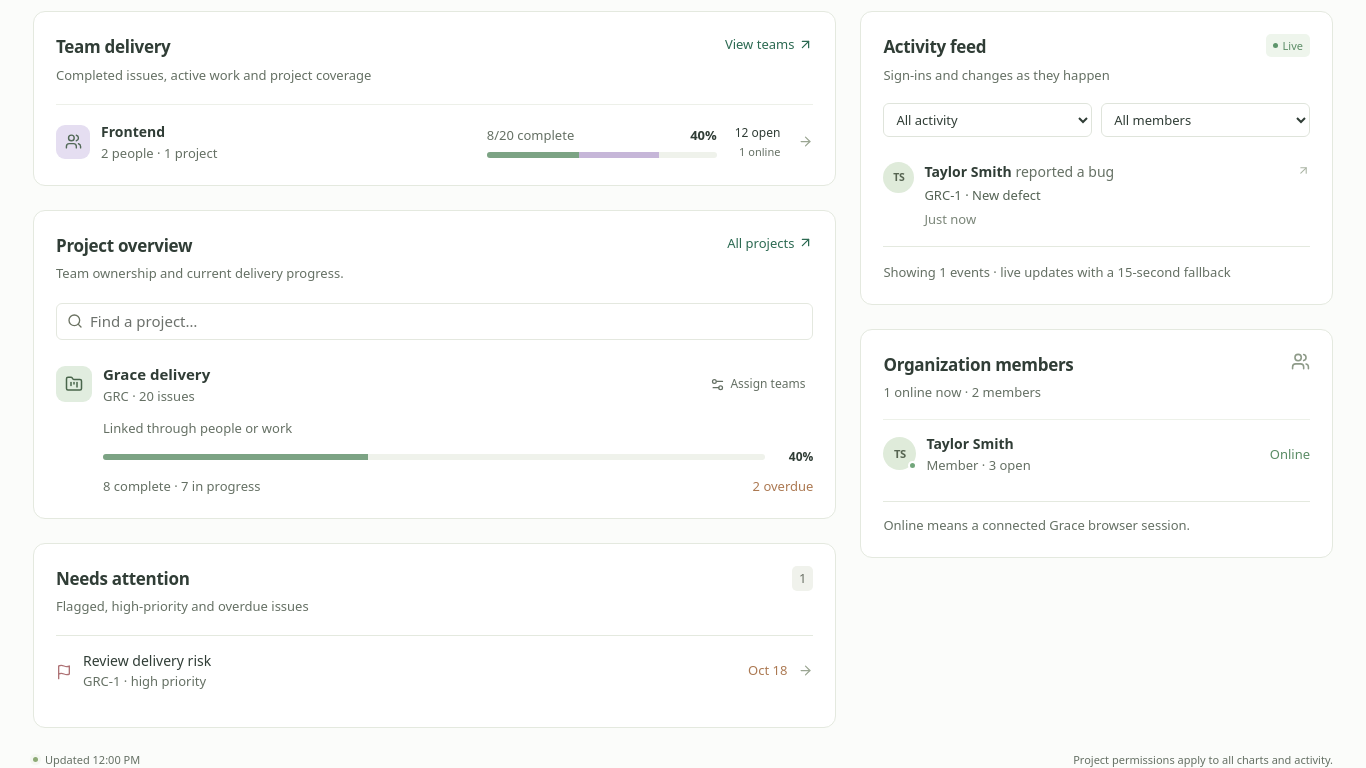
Test: submits explicit project team assignments and their concurrency version
(page scrolled)
Expected: the button with class "home-feed-event" is shown, [883,145,1310,246]
Step 1. Click the button with class "home-assign-button" → (758, 384), box [702,368,813,401]
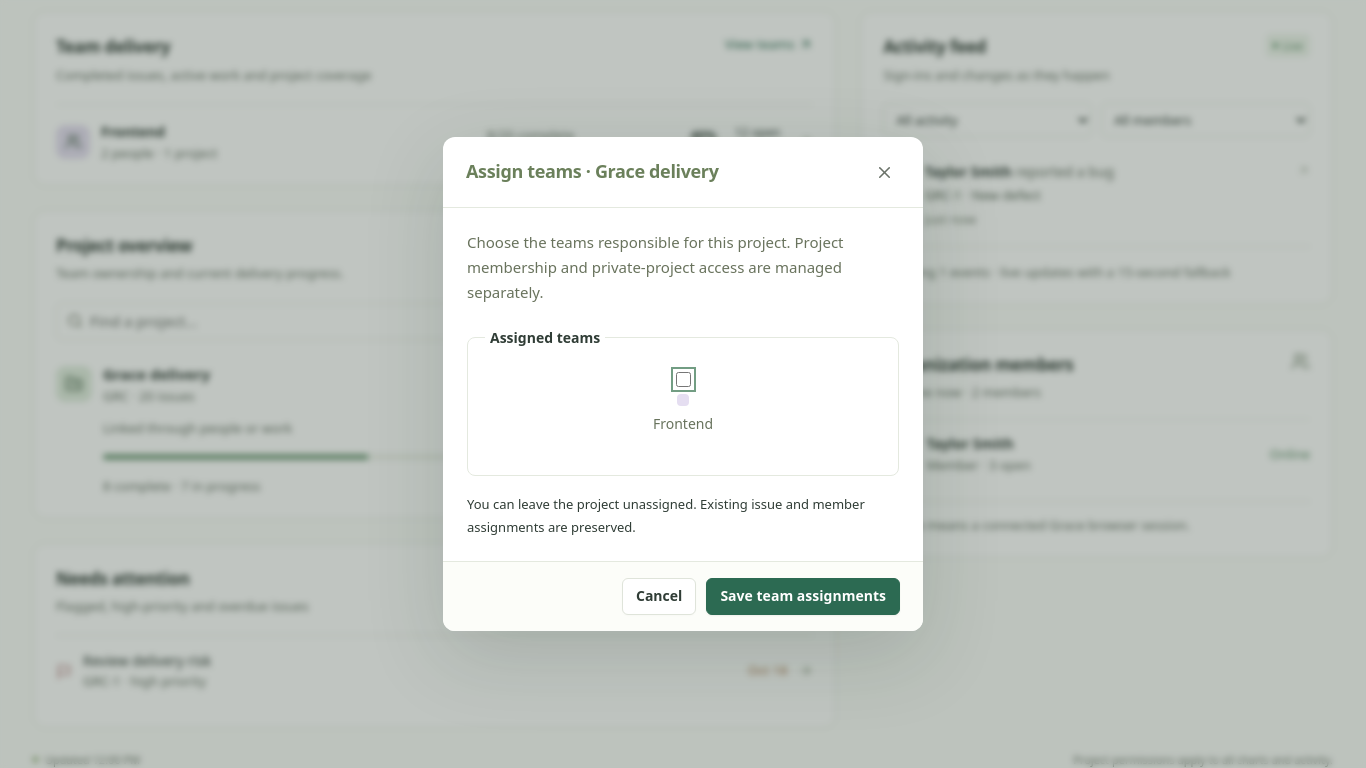
Step 2. Click the checkbox labelled "Frontend" → (683, 380), box [676,372,690,387]
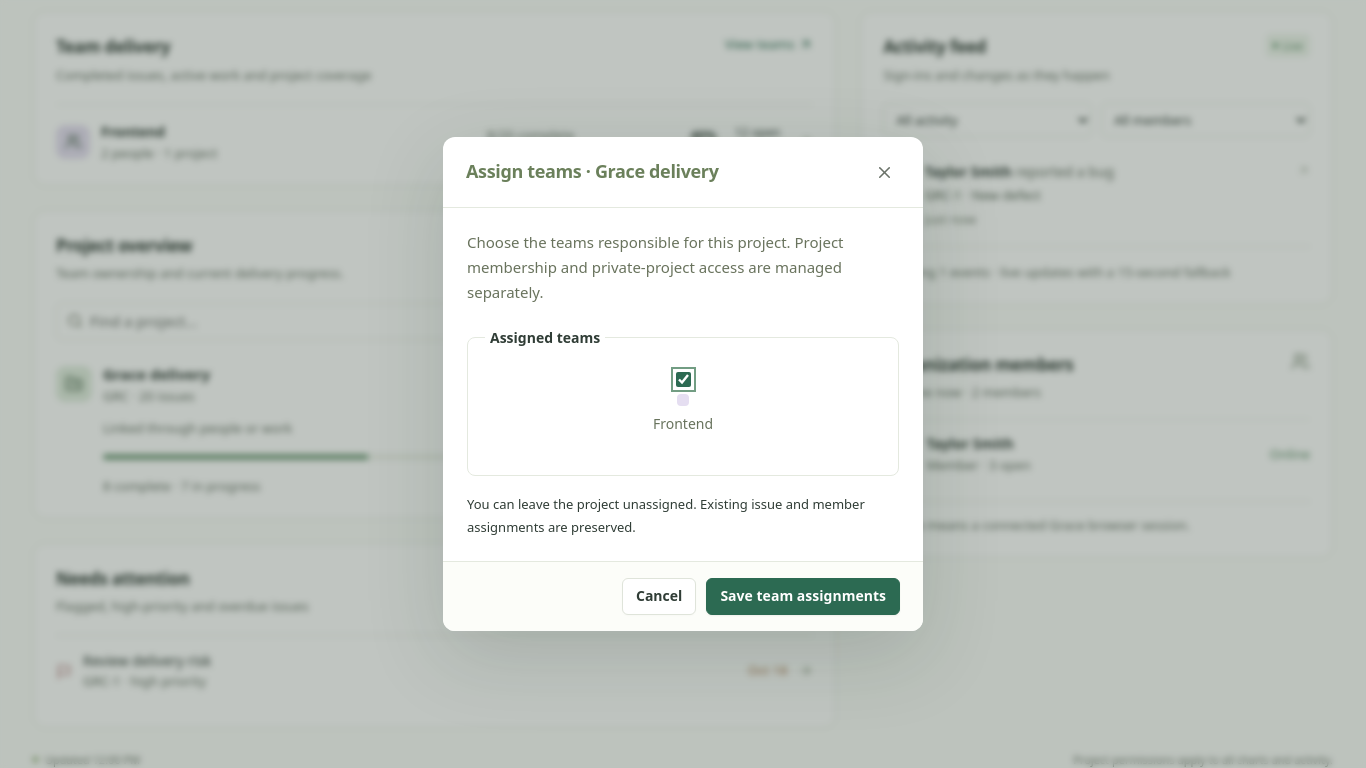
Step 3. Submit the form, box [443,208,923,630]
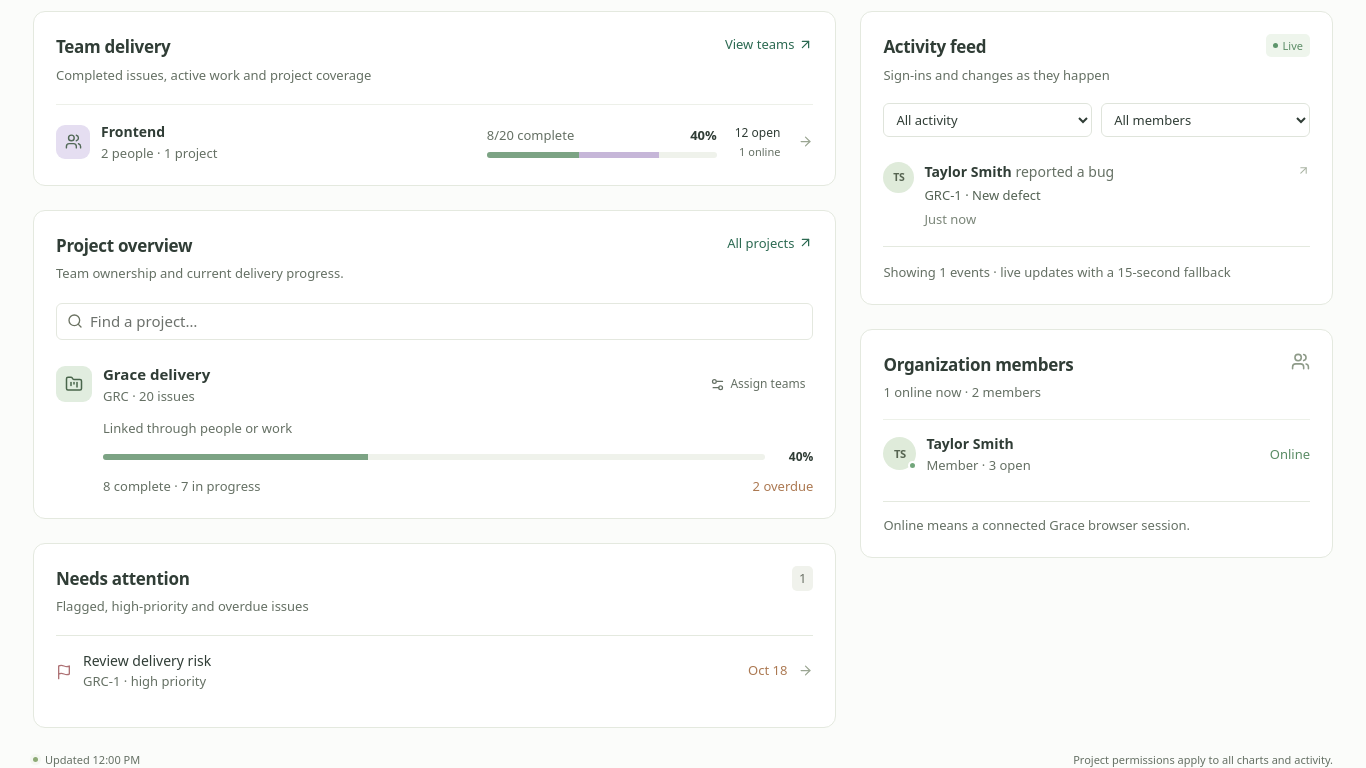
Result: the button is gone
